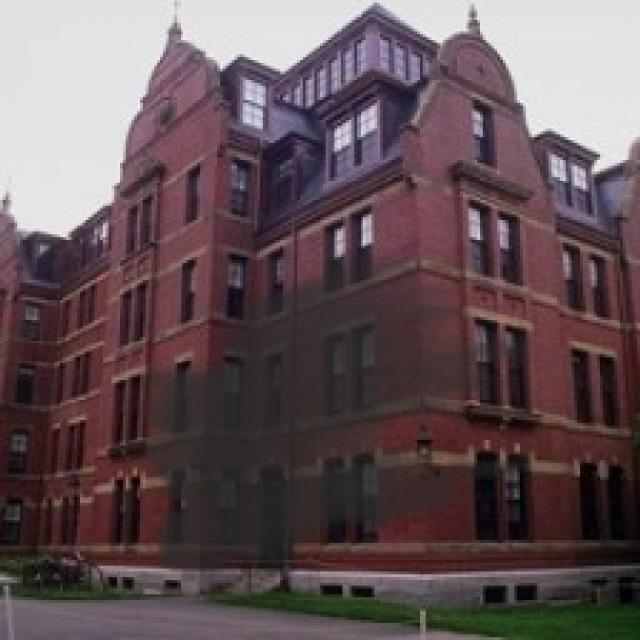Smoke: (114, 237, 532, 597)
